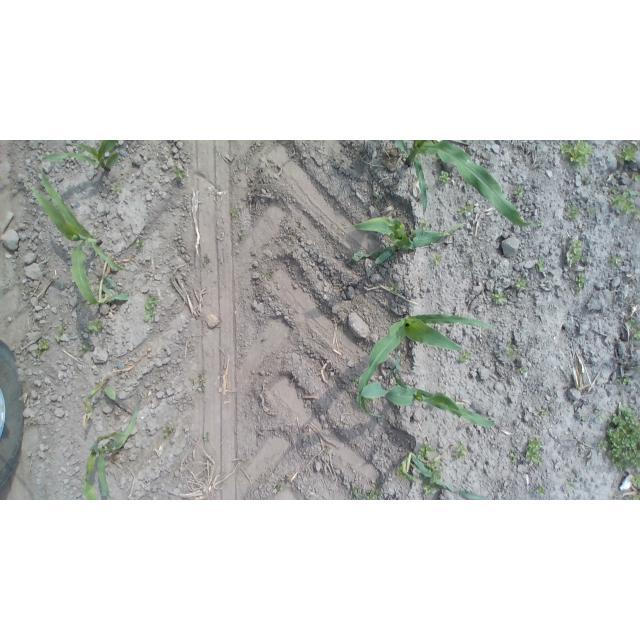Maize: (19, 168, 134, 306), (357, 314, 498, 426), (393, 141, 534, 232), (353, 362, 503, 434), (77, 389, 147, 500), (74, 345, 154, 427), (353, 216, 468, 268), (397, 451, 494, 500), (41, 140, 138, 170)
Weeds: (602, 405, 640, 472), (608, 187, 640, 221), (560, 140, 594, 168), (349, 481, 385, 500), (617, 141, 640, 168), (525, 438, 544, 465), (416, 442, 437, 464), (568, 240, 584, 268), (145, 294, 159, 323), (427, 459, 444, 481), (272, 481, 295, 497), (193, 370, 207, 395), (421, 484, 441, 501), (628, 472, 640, 500), (571, 274, 587, 294), (625, 320, 640, 341), (562, 204, 580, 221), (492, 291, 511, 307), (31, 340, 47, 358), (87, 318, 103, 334), (109, 183, 127, 197), (78, 341, 92, 359), (459, 203, 475, 218), (514, 279, 530, 293), (55, 328, 69, 344), (430, 253, 447, 266), (438, 169, 453, 183), (175, 166, 188, 182), (202, 254, 214, 271), (453, 443, 467, 457), (133, 235, 147, 249), (504, 345, 517, 360), (230, 206, 242, 222), (458, 350, 472, 363), (535, 259, 547, 274), (237, 229, 248, 245), (199, 430, 210, 446), (163, 425, 174, 441), (513, 185, 525, 199), (610, 256, 623, 268), (372, 190, 385, 202), (535, 485, 549, 496), (419, 221, 430, 235), (389, 281, 401, 293), (621, 377, 634, 388), (576, 412, 590, 422), (509, 449, 520, 461), (516, 367, 528, 378), (540, 409, 551, 420), (265, 270, 275, 282), (632, 173, 640, 182)
